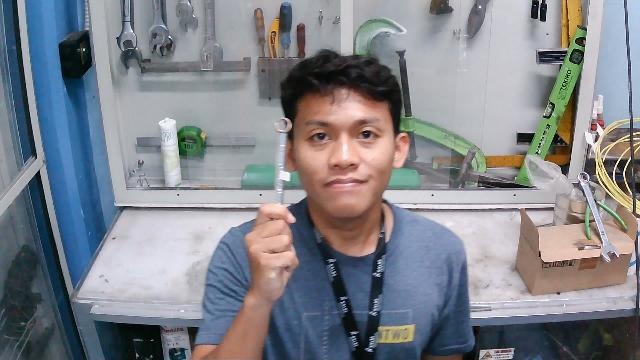kunci_pass_13: (248, 112, 311, 266)
